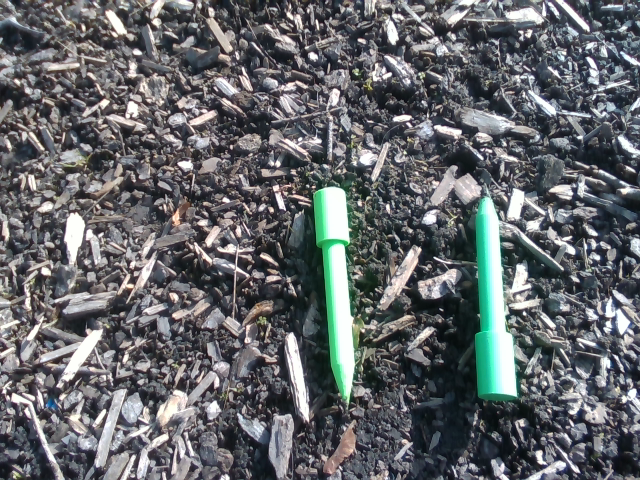Probe: (302, 179, 360, 419), (466, 176, 522, 407)
